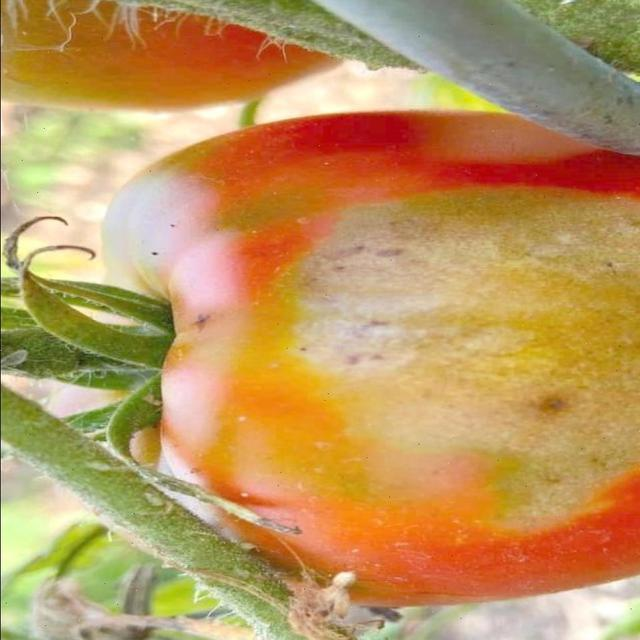Sunscald Fruit: (105, 158, 275, 253)
